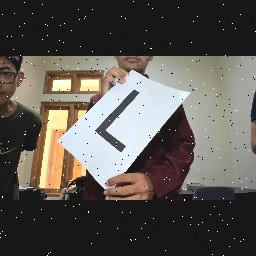l: (91, 90, 147, 154)
